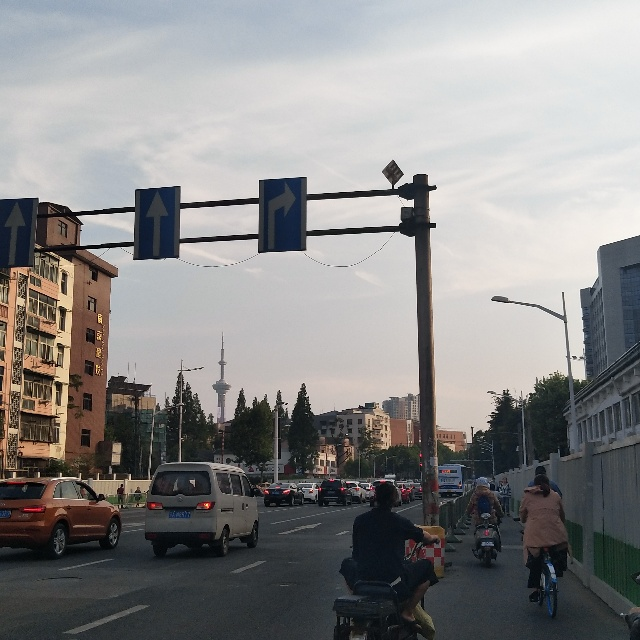right: (256, 177, 298, 243)
straight: (141, 190, 178, 255), (1, 200, 31, 265)
